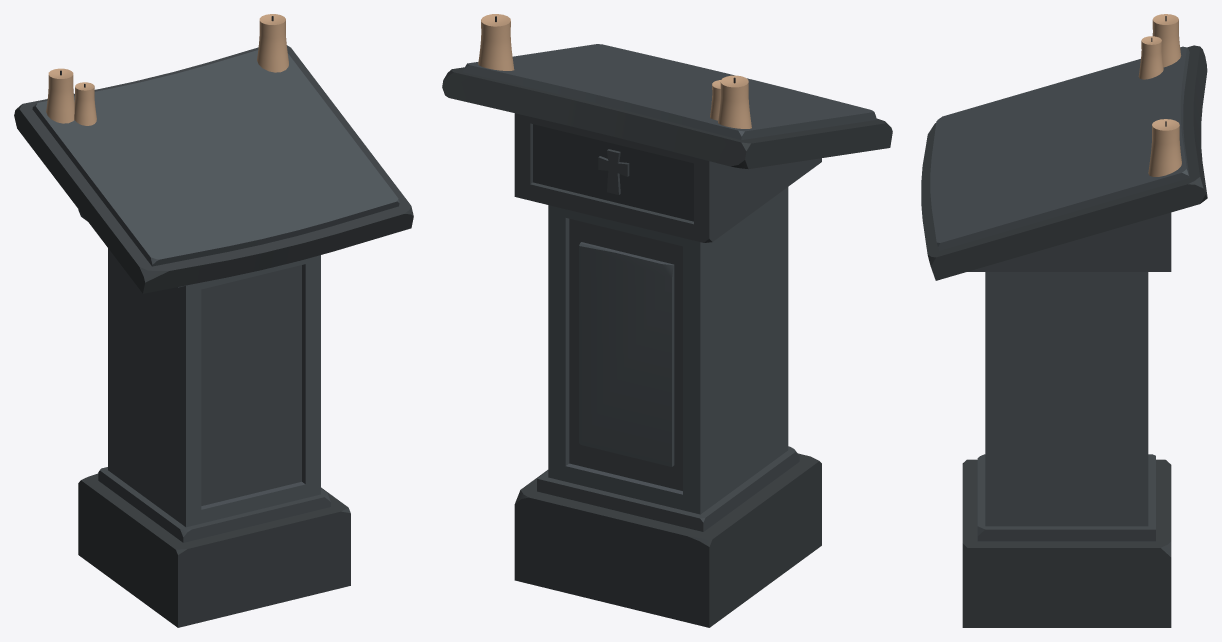
Rendered from Altar_01.glb.
3 renders of one model, left to right at view 1: azimuth 30°, elevation 25°; view 2: azimuth 150°, elevation 25°; view 3: azimuth 270°, elevation 25°, orthographic. The views are drawn at different scales.
Visible parts, largest first — view 1: Altar_01_LOD0; view 2: Altar_01_LOD0; view 3: Altar_01_LOD0.
Part boxes in pixels (<box>): Altar_01_LOD0: <box>14,14,413,627</box>; Altar_01_LOD0: <box>442,14,892,627</box>; Altar_01_LOD0: <box>921,14,1207,627</box>.
Size of what is drawn, in the model's own units: 0.754 by 1.32 by 0.6662.
1 material, 1 textured.
